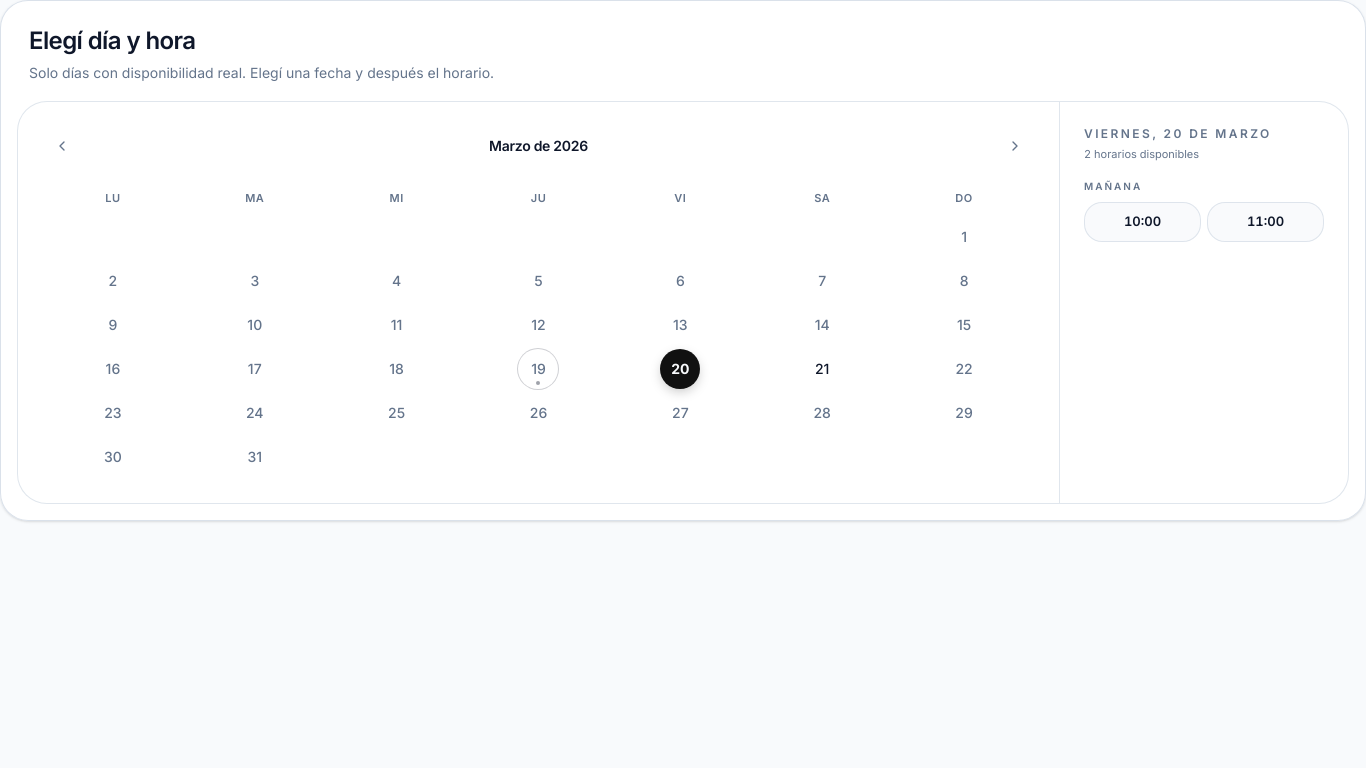
Test: BookingScheduleSection › clears the selected slot when the date changes
This screenshot has width=1366, height=768.
Click the radio button named "Horario 10:00": click(1142, 222) [1084, 202, 1201, 242]
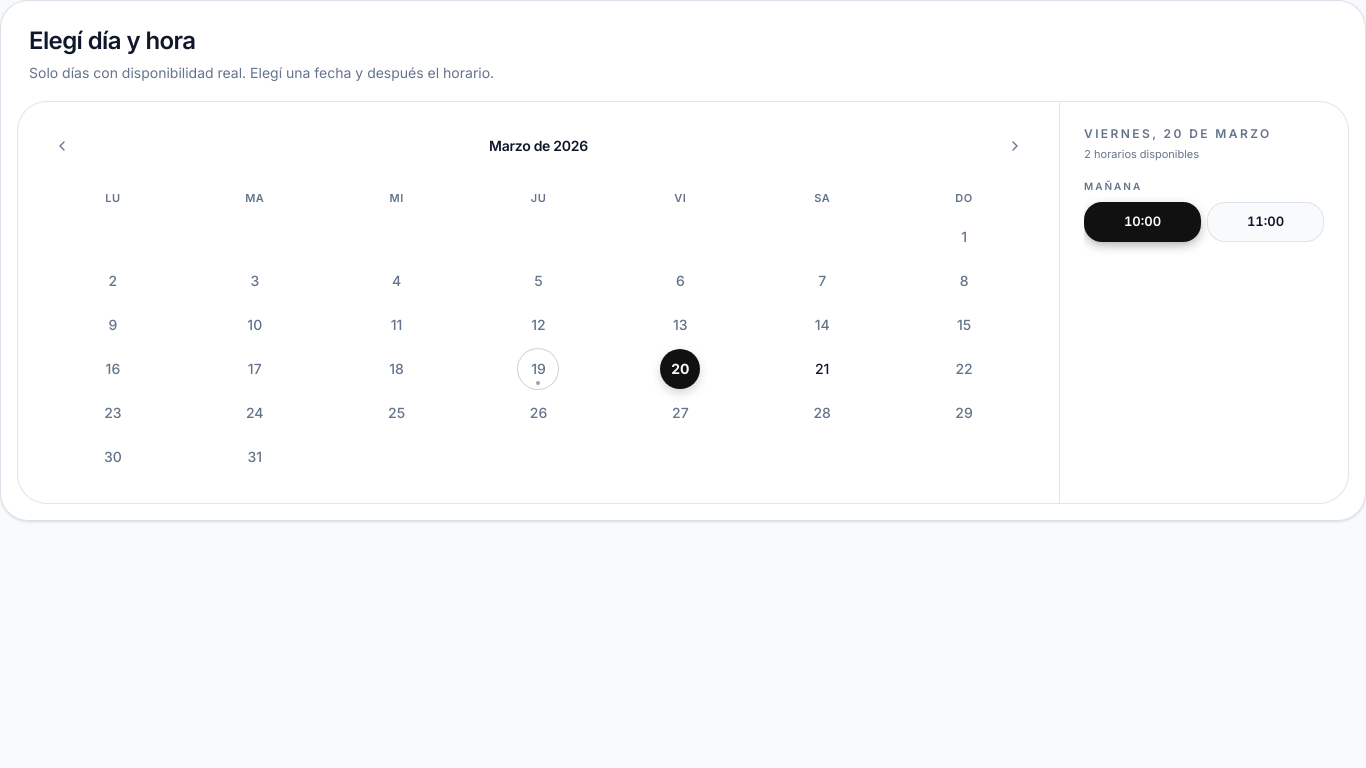
Click the button named "21 de marzo": click(822, 368) [751, 346, 893, 390]
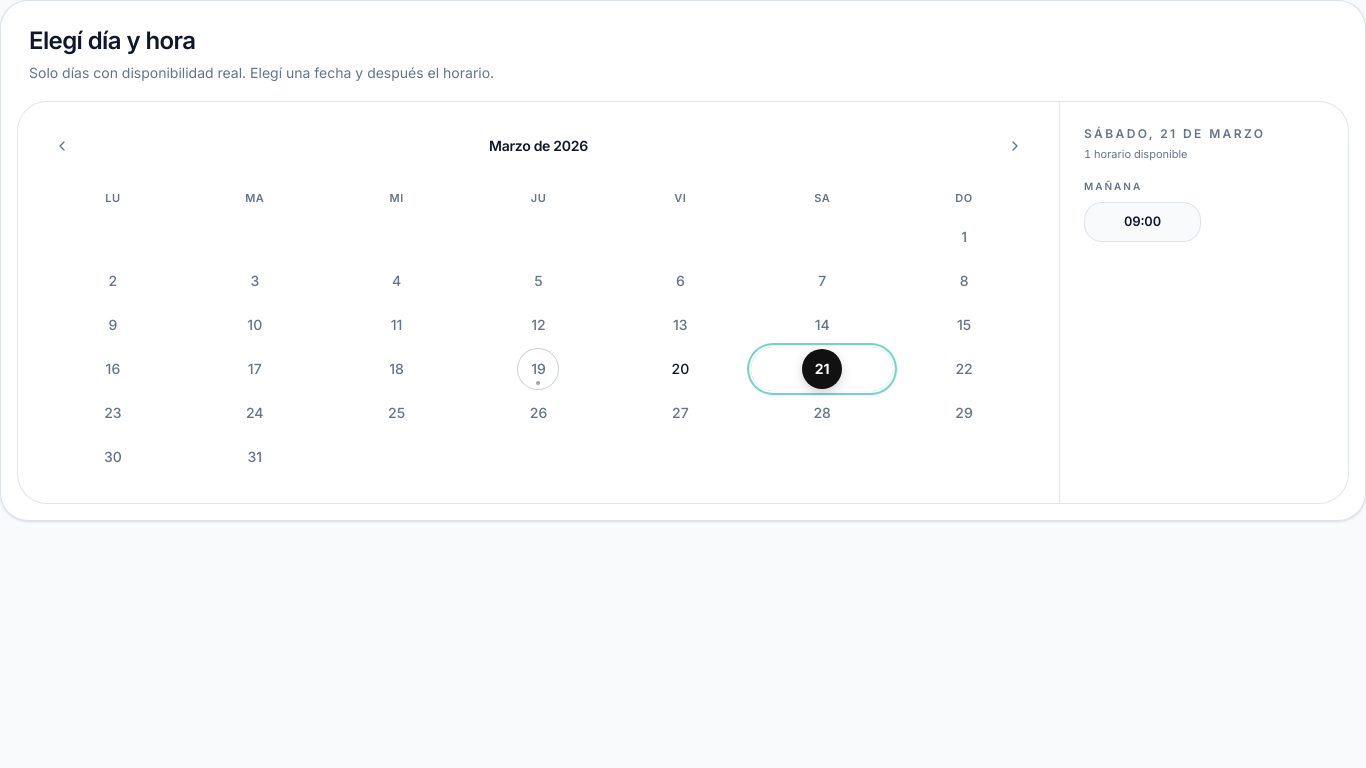
Result: the radio button named "Horario 09:00" is shown at [1084, 202, 1201, 242]
